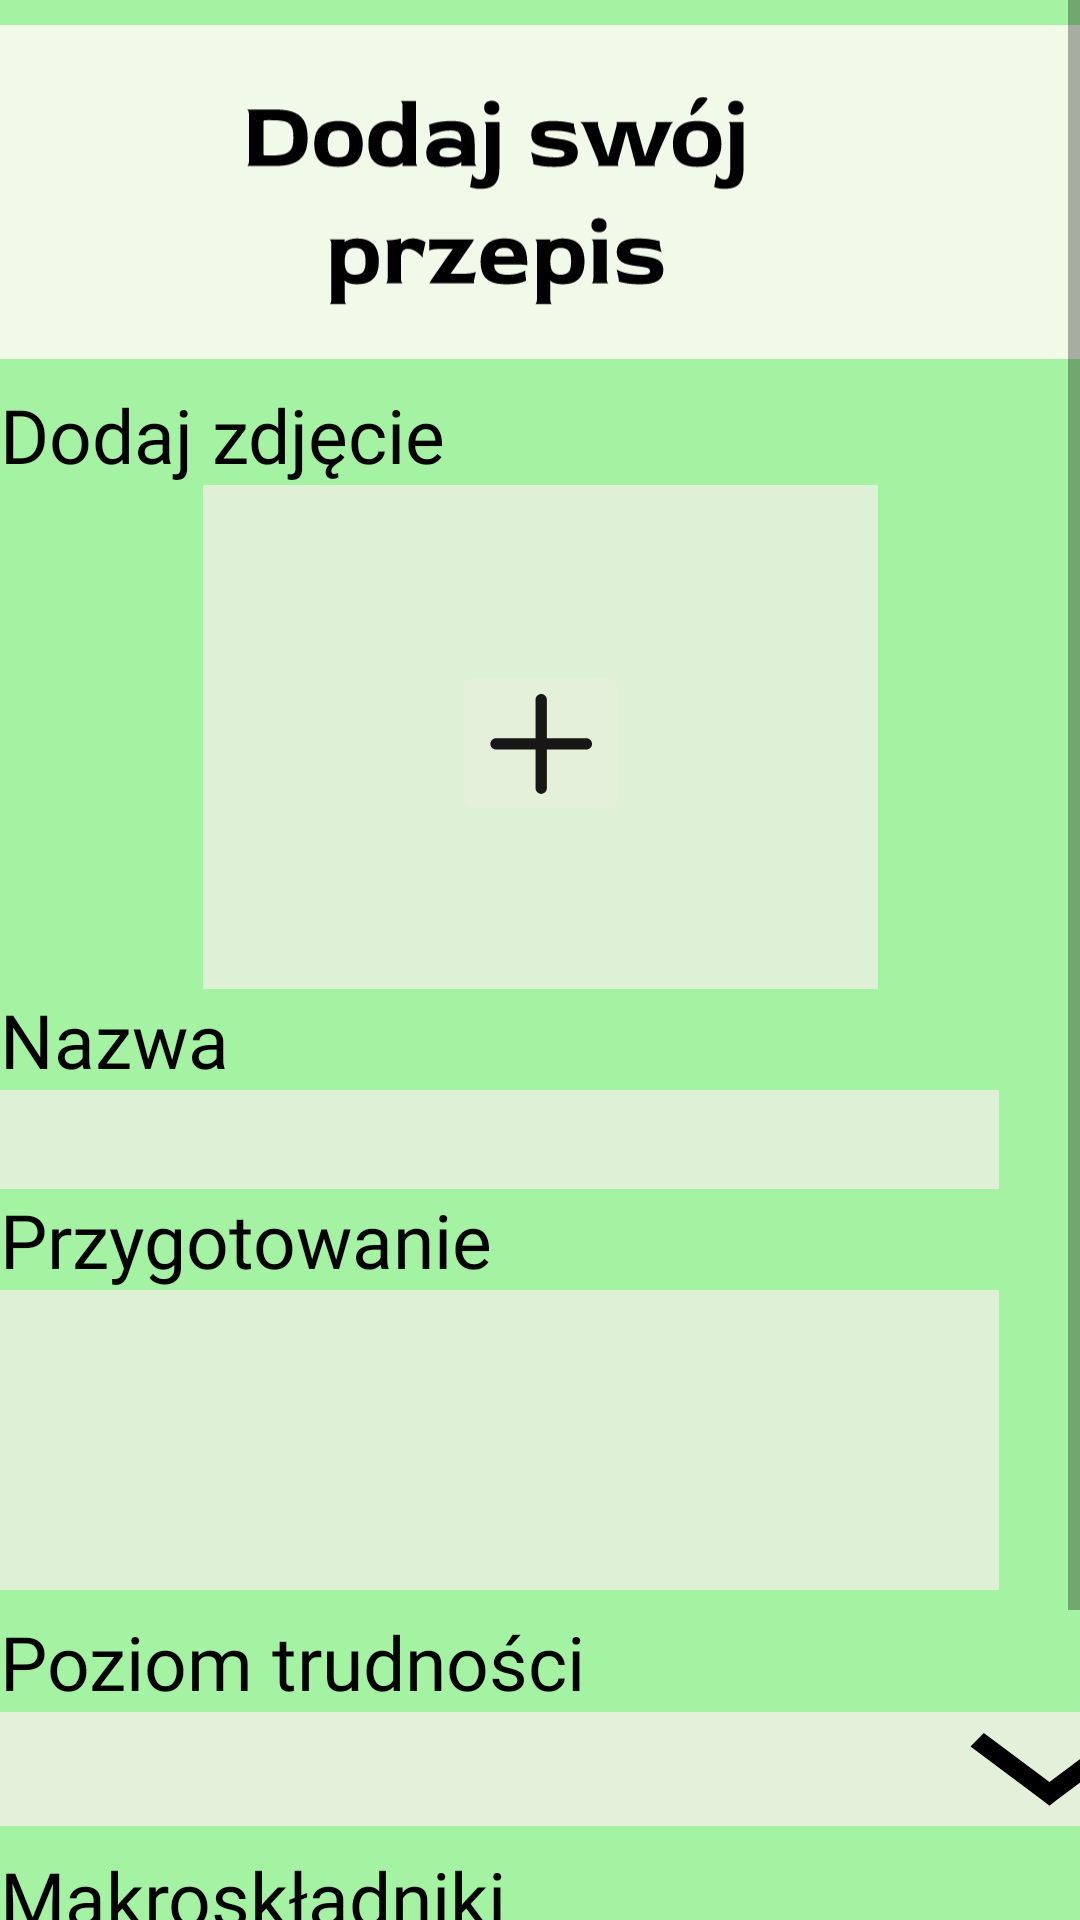

Screen size 1080 × 1920. Icon name, then its center in pixels as (x=x, y=y):
plusodzdjecia: (x=541, y=744)
